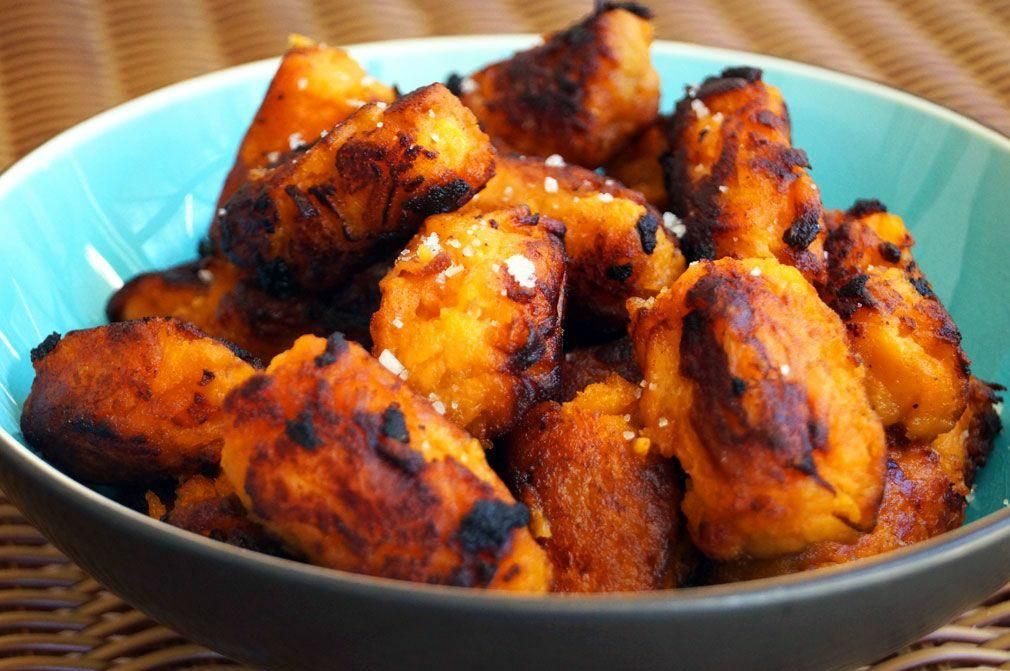AlooMasala: (19, 0, 1003, 595)
